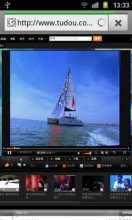fanchuan: (48, 70, 89, 125)
